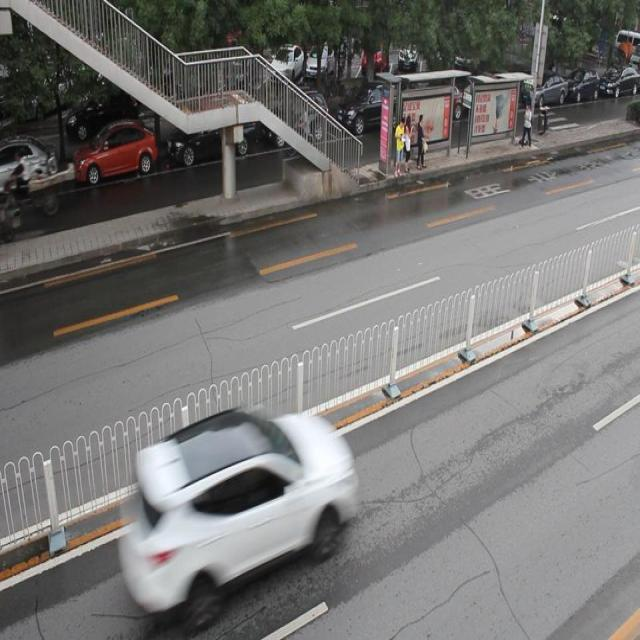car: (121, 405, 358, 619), (74, 120, 158, 184), (167, 103, 252, 165), (262, 90, 330, 148), (336, 80, 406, 136), (1, 135, 58, 199)
